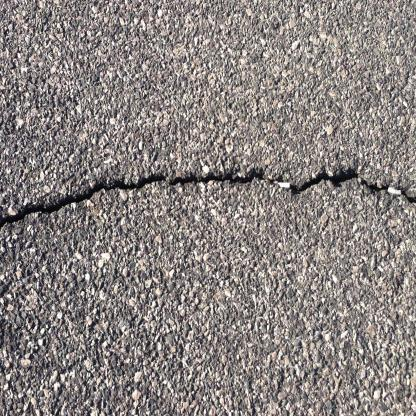Cracks: (0, 153, 416, 262)
